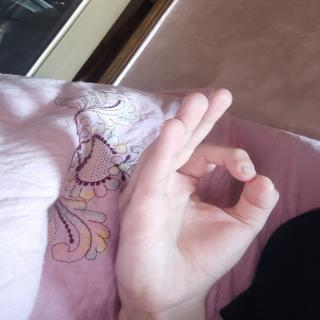Space: (113, 86, 290, 320)
